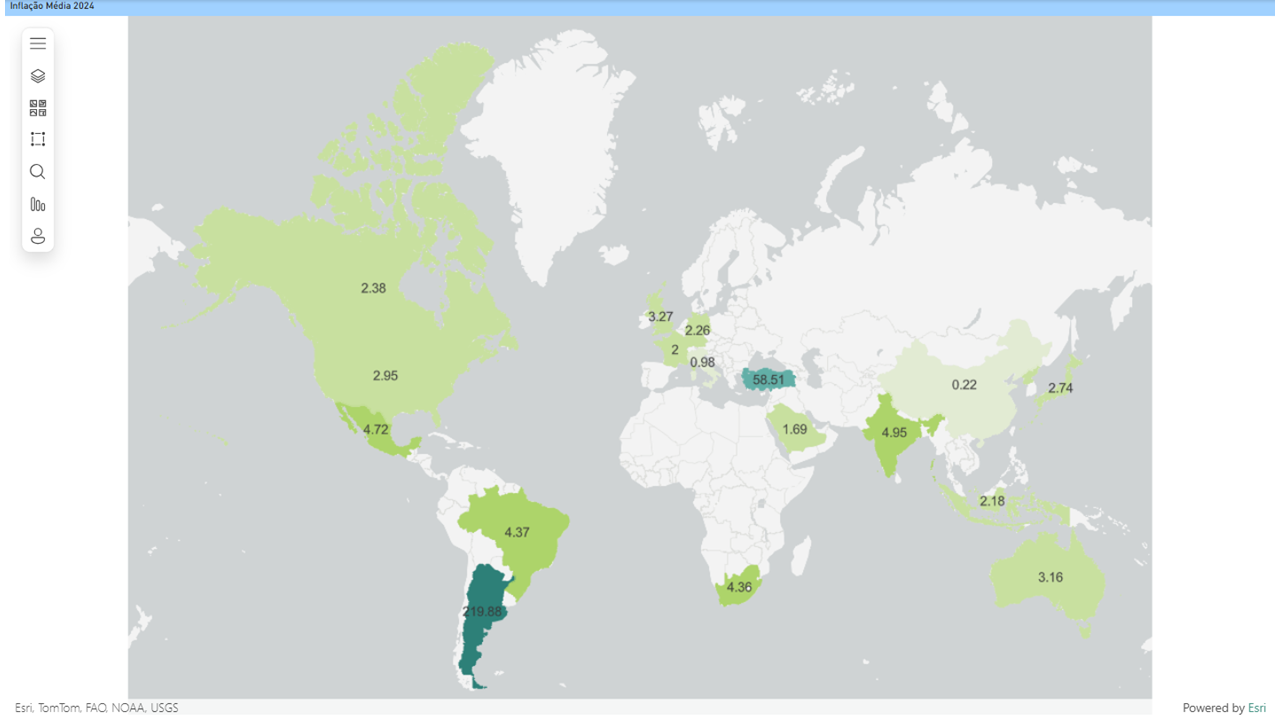

What the dashboard file says about the page in this screenshot:
{"tool":"powerbi","page":{"name":"Página 2","canvas":[1280,720],"ordinal":1},"visuals":[{"type":"esriVisual","title":"Inflação Média 2024","fields":{"Location":["cpi.country"],"Color":["Min(cpi.CPI)"]},"box":[9.8,0,1270.6,720],"z":0}]}

Visuals, with their boxes on the page's 1280x720 design canvas (x1, y1, x2, y2). These are canvas units, not pixel positions in the 1280x720 screenshot, which may show the page scaled, cropped or inside an application window:
"Inflação Média 2024" esriVisual: (10,0,1280,720)
